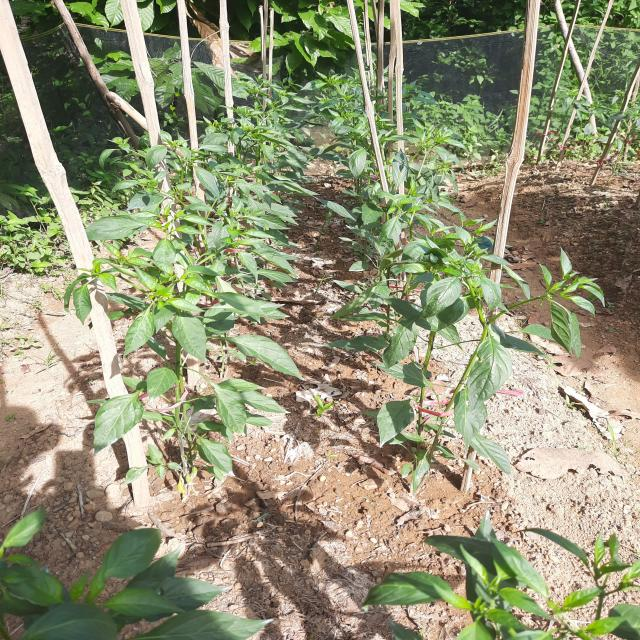sehat: (222, 326, 305, 381), (78, 394, 136, 456), (362, 397, 418, 445), (163, 316, 208, 372), (414, 278, 454, 314)
